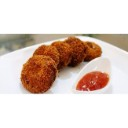cutlet: (20, 56, 59, 93), (55, 40, 105, 64), (36, 45, 60, 64)
